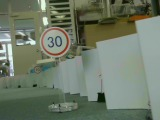speed_30: (38, 26, 69, 58)
